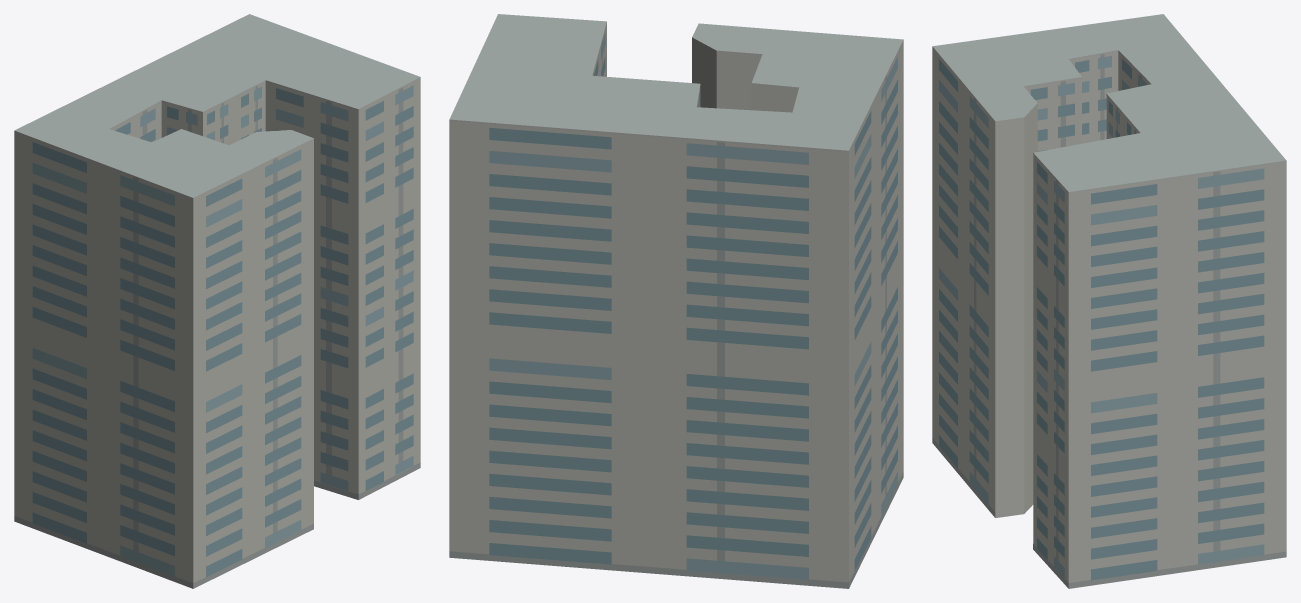
File: residential-139076d5-02e0-4cdf-a484-cab922b335b9.glb
The picture shows the model from 3 angles, left to right: view 1: azimuth 30°, elevation 25°; view 2: azimuth 150°, elevation 25°; view 3: azimuth 270°, elevation 25°; orthographic projection. The views are drawn at different scales.
Parts seen in each view (by area): view 1: residential-139076d5-02e0-4cdf-a484-cab922b335b9.tmp; view 2: residential-139076d5-02e0-4cdf-a484-cab922b335b9.tmp; view 3: residential-139076d5-02e0-4cdf-a484-cab922b335b9.tmp.
Boxes of the visible parts, left/top/right/bottom form: residential-139076d5-02e0-4cdf-a484-cab922b335b9.tmp: left=14, top=14, right=420, bottom=588; residential-139076d5-02e0-4cdf-a484-cab922b335b9.tmp: left=449, top=14, right=903, bottom=588; residential-139076d5-02e0-4cdf-a484-cab922b335b9.tmp: left=932, top=14, right=1286, bottom=588.
Size of the model in its own units: 67.41 by 70 by 56.63.
